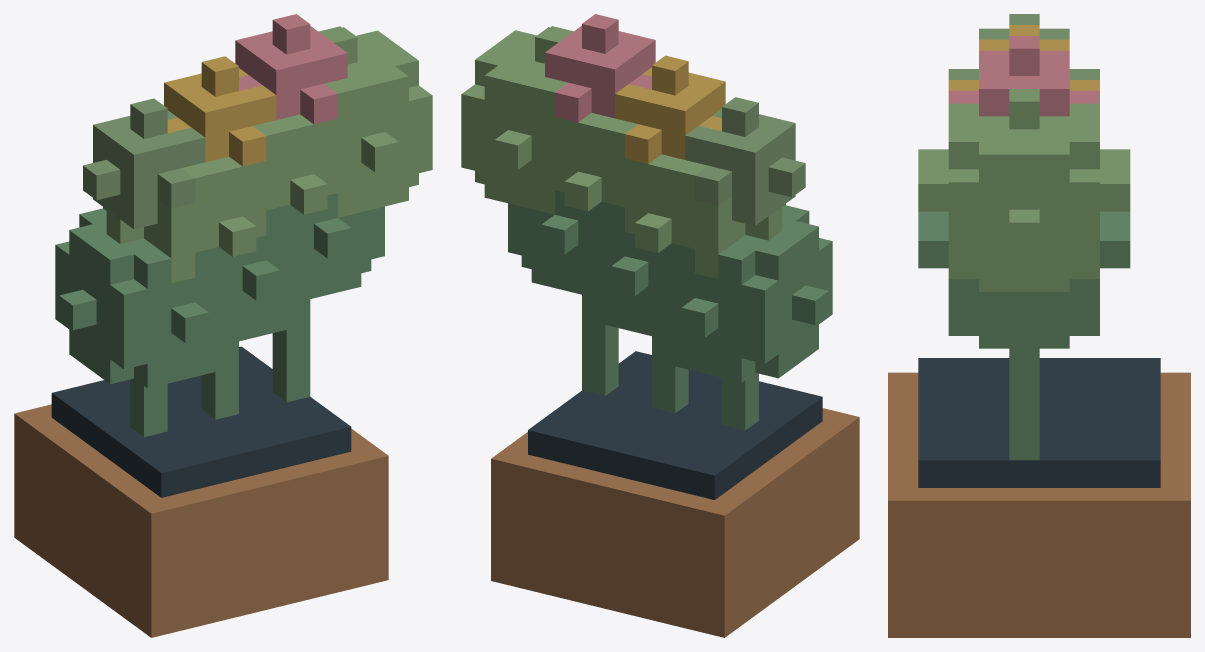
The model's file is gardening-05.glb.
3 views of the same model, side by side, from view 1: azimuth 30°, elevation 25°; view 2: azimuth 150°, elevation 25°; view 3: azimuth 270°, elevation 25° (orthographic). The views are drawn at different scales.
Visible parts, largest first — view 1: Flower planter; view 2: Flower planter; view 3: Flower planter.
Boxes of the visible parts, bbox=[...] form: Flower planter: bbox=[14, 14, 432, 637]; Flower planter: bbox=[461, 14, 859, 637]; Flower planter: bbox=[888, 14, 1190, 637].
Size of the model in its own units: 1.2 by 1.68 by 0.8.
